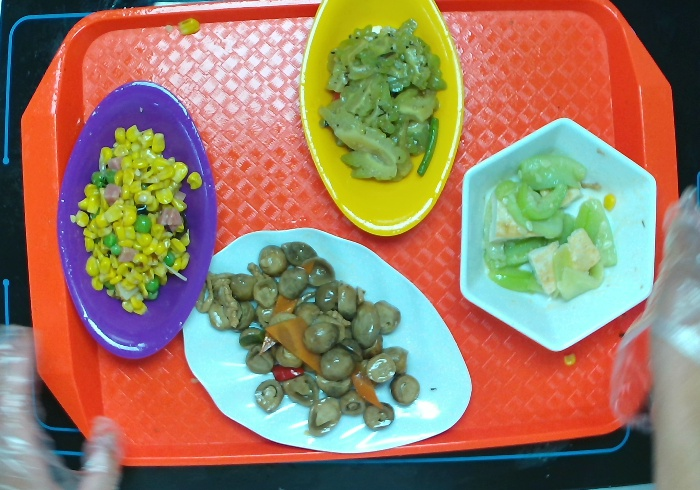RJxy-Bai_Ye_Pan: (175, 223, 480, 459)
RJxy-Fen_Hong_Tuo_Yuan: (50, 77, 224, 367)
RJxy-Huang_Se_Tuo_Yuan: (287, 2, 469, 241)
RJxy-Liu_Jiao_Wan: (446, 111, 665, 362)
